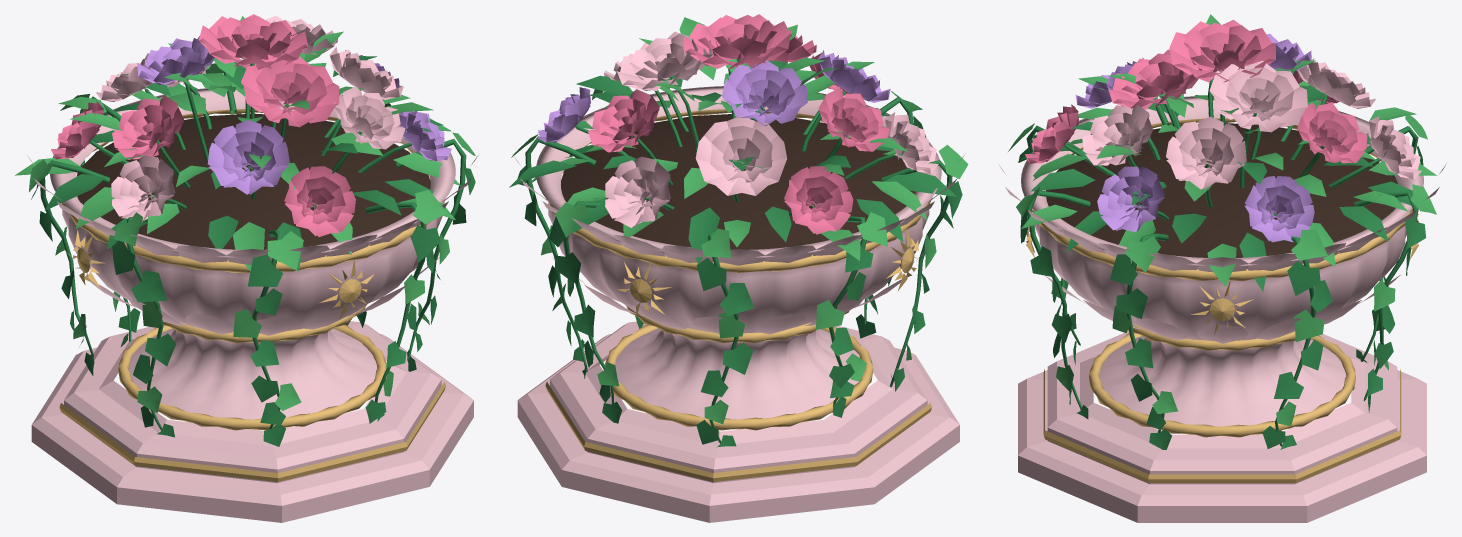
Rendered from garden_planter.glb.
The picture shows the model from 3 angles, left to right: view 1: azimuth 30°, elevation 25°; view 2: azimuth 150°, elevation 25°; view 3: azimuth 270°, elevation 25°; orthographic projection.
Visible parts, largest first — view 1: GardenPlanter; view 2: GardenPlanter; view 3: GardenPlanter.
Boxes of the visible parts, x1,y1,x2,y2 form: GardenPlanter: (15, 14, 478, 522); GardenPlanter: (509, 14, 968, 522); GardenPlanter: (998, 14, 1446, 522).
Bounding box in the file's own units: 1.83 × 1.77 × 1.81.
